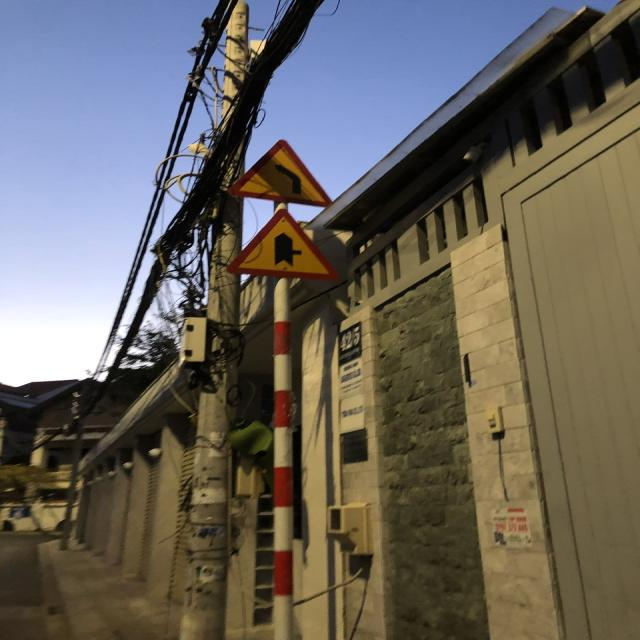Bien bao cho ngoat nguy hiem: (218, 132, 341, 210)
Bien bao giao nhau voi duong khong uu tien: (217, 206, 343, 286)
